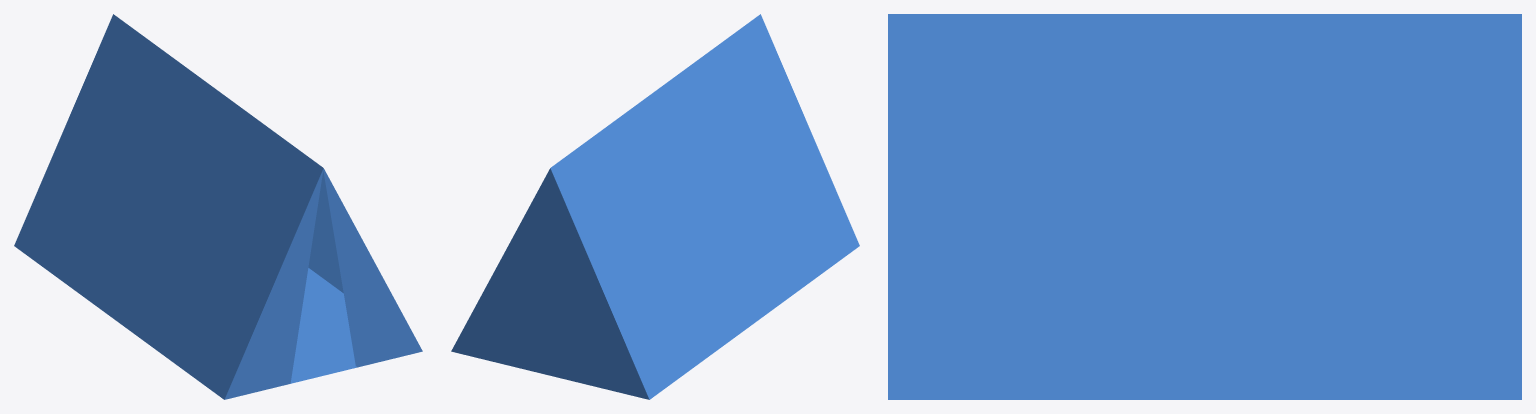
The model's file is tent.fbx.
3 views of the same model, side by side, from view 1: azimuth 30°, elevation 25°; view 2: azimuth 150°, elevation 25°; view 3: azimuth 270°, elevation 25° (orthographic). The views are drawn at different scales.
Parts seen in each view (by area): view 1: Cube, Cube.001; view 2: Cube; view 3: Cube.
Part boxes in pixels (x1,y1,x2,y2): Cube: (14,14,422,399); Cube.001: (291,169,356,382); Cube: (451,14,859,399); Cube: (888,14,1521,399).
Bounding box in the file's own units: 200 × 200 × 367.
